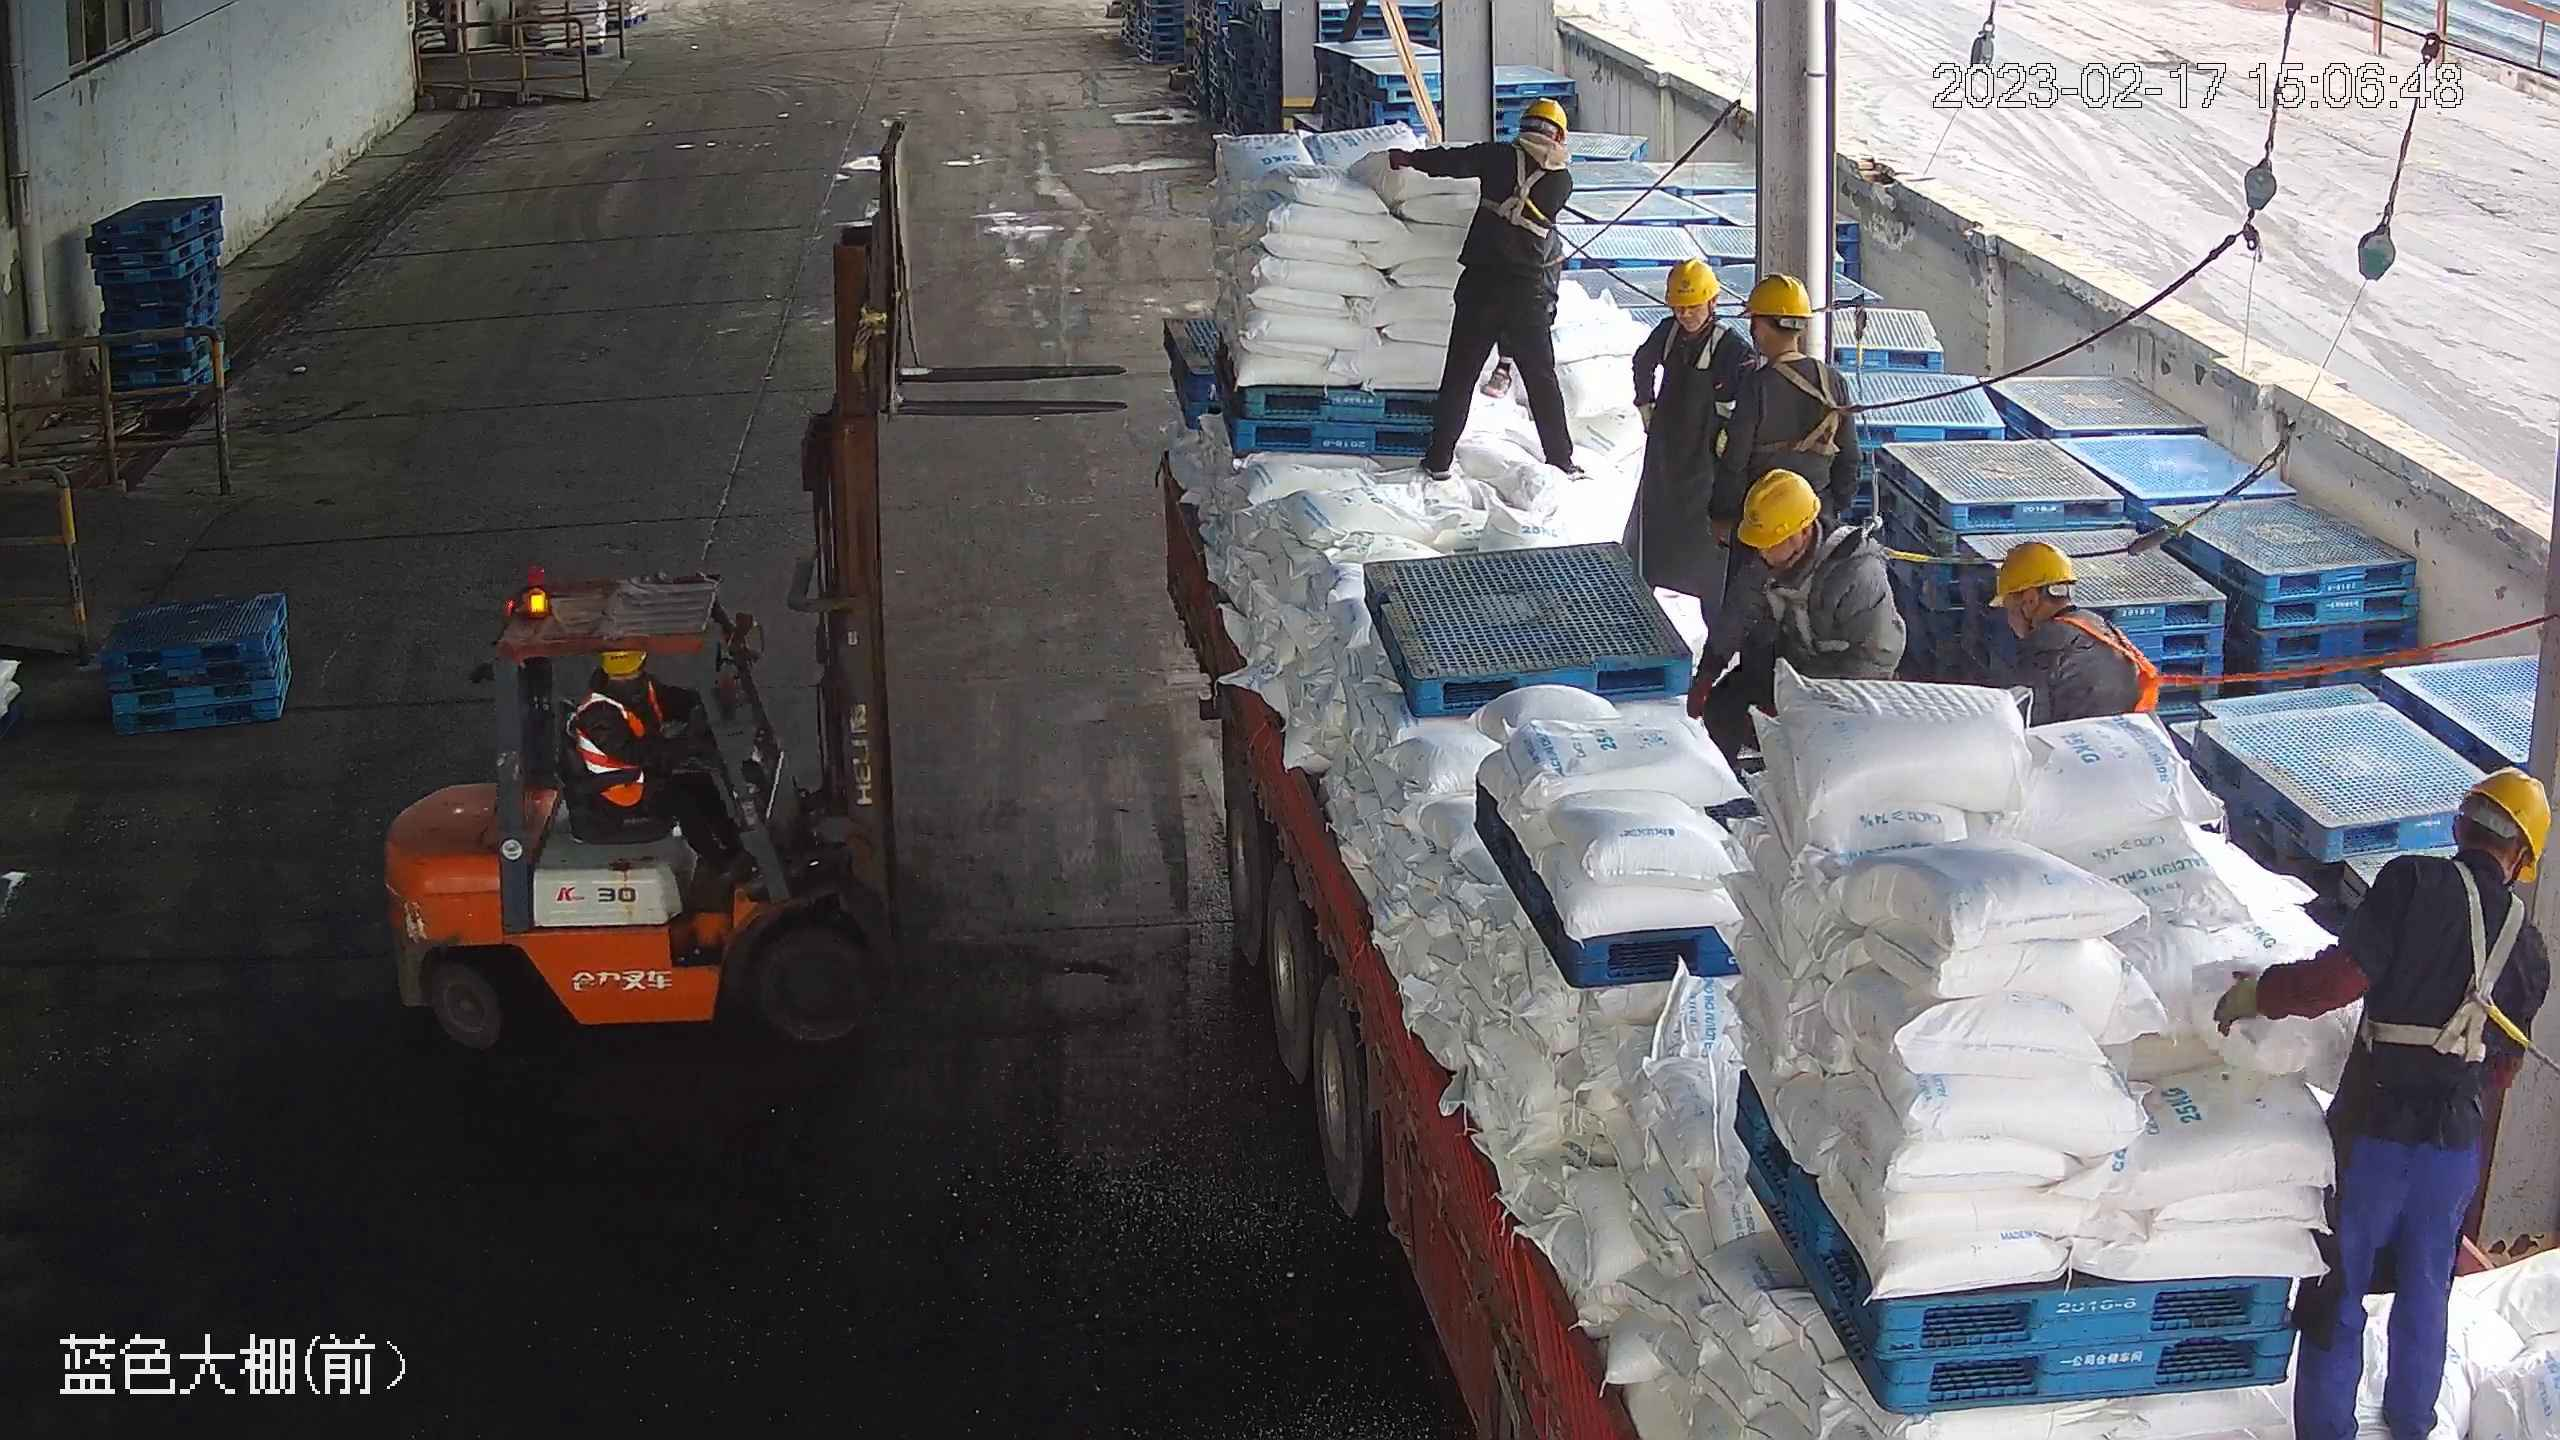belt: (2359, 856, 2537, 1064), (1766, 528, 1927, 661), (2066, 605, 2183, 722), (1774, 356, 1852, 457), (1479, 144, 1554, 244), (1662, 320, 1734, 372)
head: (2329, 767, 2554, 1003), (1988, 539, 2151, 711), (1735, 467, 1879, 611), (1718, 274, 1849, 427), (1440, 96, 1574, 218), (1640, 261, 1747, 367)
helmet: (2453, 767, 2549, 878), (1735, 467, 1823, 549), (1991, 542, 2079, 610), (1742, 276, 1813, 322), (1666, 262, 1718, 308), (1522, 100, 1566, 132)
people: (2213, 771, 2556, 1440), (1390, 91, 1590, 484), (1684, 469, 1906, 764), (1706, 272, 1862, 615), (1622, 257, 1762, 608), (566, 645, 764, 883)
truck: (1140, 428, 2560, 1440)
